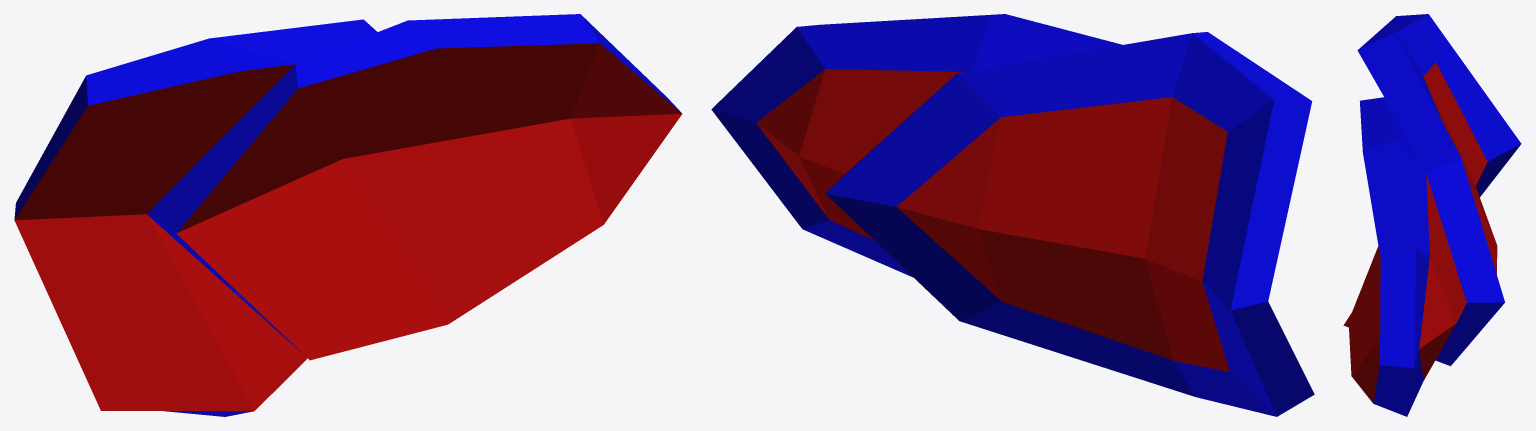
File: Chr_ElbowAttachLeft_Static_03.fbx
3 views of the same model, side by side, from view 1: azimuth 30°, elevation 25°; view 2: azimuth 150°, elevation 25°; view 3: azimuth 270°, elevation 25° (orthographic). The views are drawn at different scales.
Parts seen in each view (by area): view 1: Chr_ElbowAttachLeft_03; view 2: Chr_ElbowAttachLeft_03; view 3: Chr_ElbowAttachLeft_03.
Boxes of the visible parts, x1,y1,x2,y2 form: Chr_ElbowAttachLeft_03: [14, 14, 682, 416]; Chr_ElbowAttachLeft_03: [711, 14, 1314, 416]; Chr_ElbowAttachLeft_03: [1343, 14, 1521, 416].
Size of the model in its own units: 21.64 by 12.74 by 6.77.
